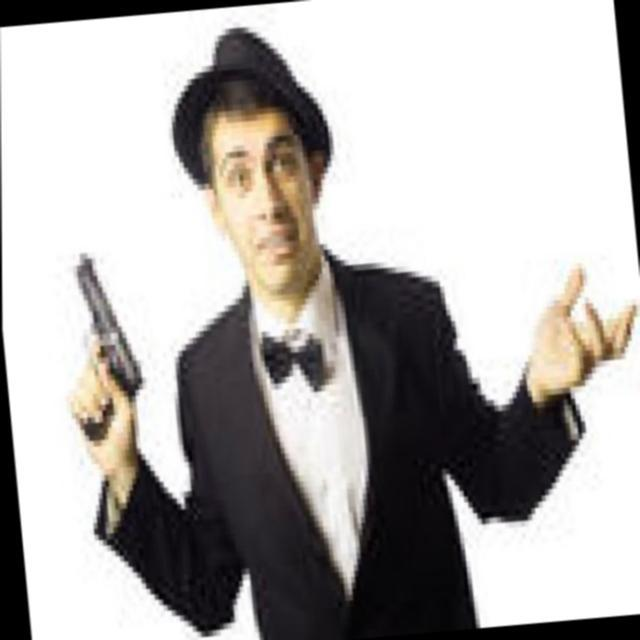weapon: (66, 243, 144, 412)
